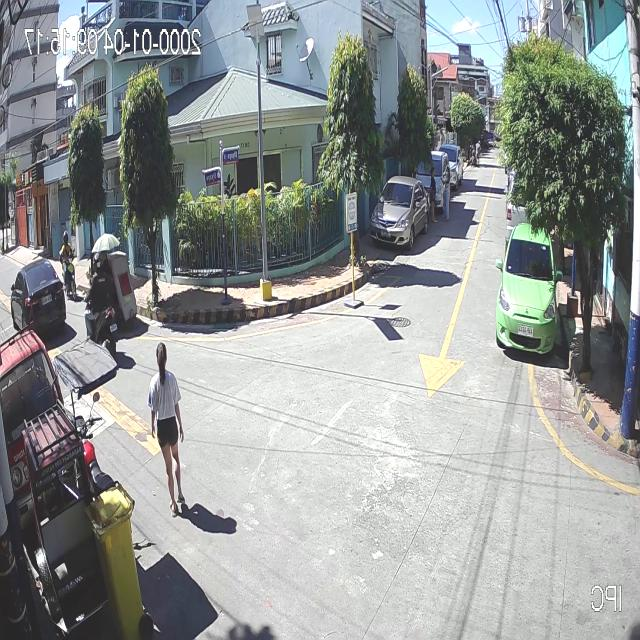standing: (439, 166, 452, 221), (427, 166, 438, 223), (474, 139, 482, 165)
walking: (147, 341, 186, 518)
